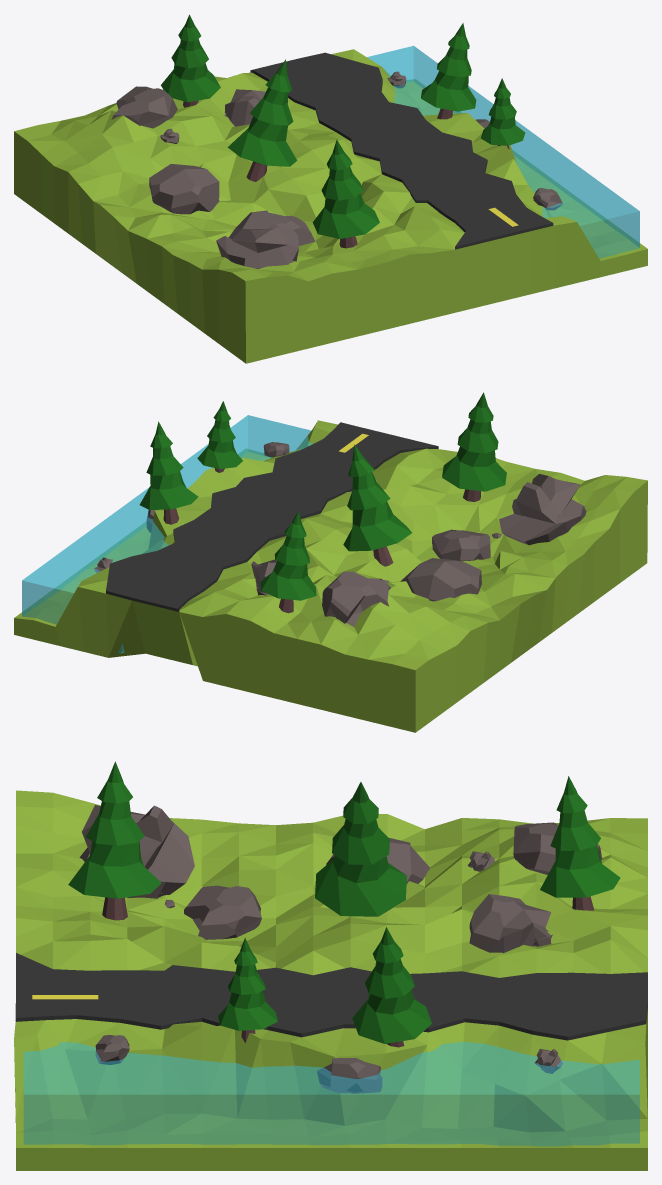
File: second-scene.glb
3 renders of one model, top to bottom at view 1: azimuth 30°, elevation 25°; view 2: azimuth 150°, elevation 25°; view 3: azimuth 270°, elevation 25°, orthographic. The views are drawn at different scales.
Visible parts, largest first — view 1: Terrain, Road, Cube, Tree, Tree.001, Rock.001, Rock, Tree.002, Tree.003, Rock.005, Tree.004, Rock.004 (+1 smaller); view 2: Terrain, Road, Cube, Rock.001, Tree, Tree.001, Tree.002, Tree.003, Rock, Rock.005, Rock.003, Tree.004; view 3: Terrain, Cube, Road, Tree, Tree.001, Tree.002, Tree.003, Rock.001, Rock.004, Rock.003, Tree.004, Rock.002 (+3 smaller).
Boxes of the visible parts, x1,y1,x2,y2 form: Terrain: (14,49,647,363); Road: (250,52,553,249); Cube: (367,45,639,258); Tree: (227,59,297,181); Tree.001: (312,139,379,248); Rock.001: (216,210,298,268); Rock: (149,164,219,214); Tree.002: (161,14,220,107); Tree.003: (421,23,476,119); Rock.005: (111,86,177,128); Tree.004: (481,78,525,149); Rock.004: (224,89,265,126); Terrain: (14,420,647,732); Road: (106,422,438,611); Cube: (22,415,312,653); Rock.001: (499,474,586,545); Tree: (343,444,411,566); Tree.001: (442,392,506,501); Tree.002: (260,511,316,613); Tree.003: (139,421,198,524); Rock: (400,558,481,601); Rock.005: (322,571,388,626); Rock.003: (432,529,490,561); Tree.004: (197,401,242,472); Terrain: (14,790,647,1170); Cube: (23,1041,639,1146); Road: (15,953,647,1040); Tree: (315,782,406,916); Tree.001: (68,761,161,920); Tree.002: (540,776,620,910); Tree.003: (352,927,431,1047); Rock.001: (79,805,194,898); Rock.004: (469,894,552,952); Rock.003: (184,885,261,939); Tree.004: (218,937,277,1042); Rock.002: (317,1058,382,1093).
Size of what is drawn, in the model's own units: 8.21 by 3.26 by 8.02.
